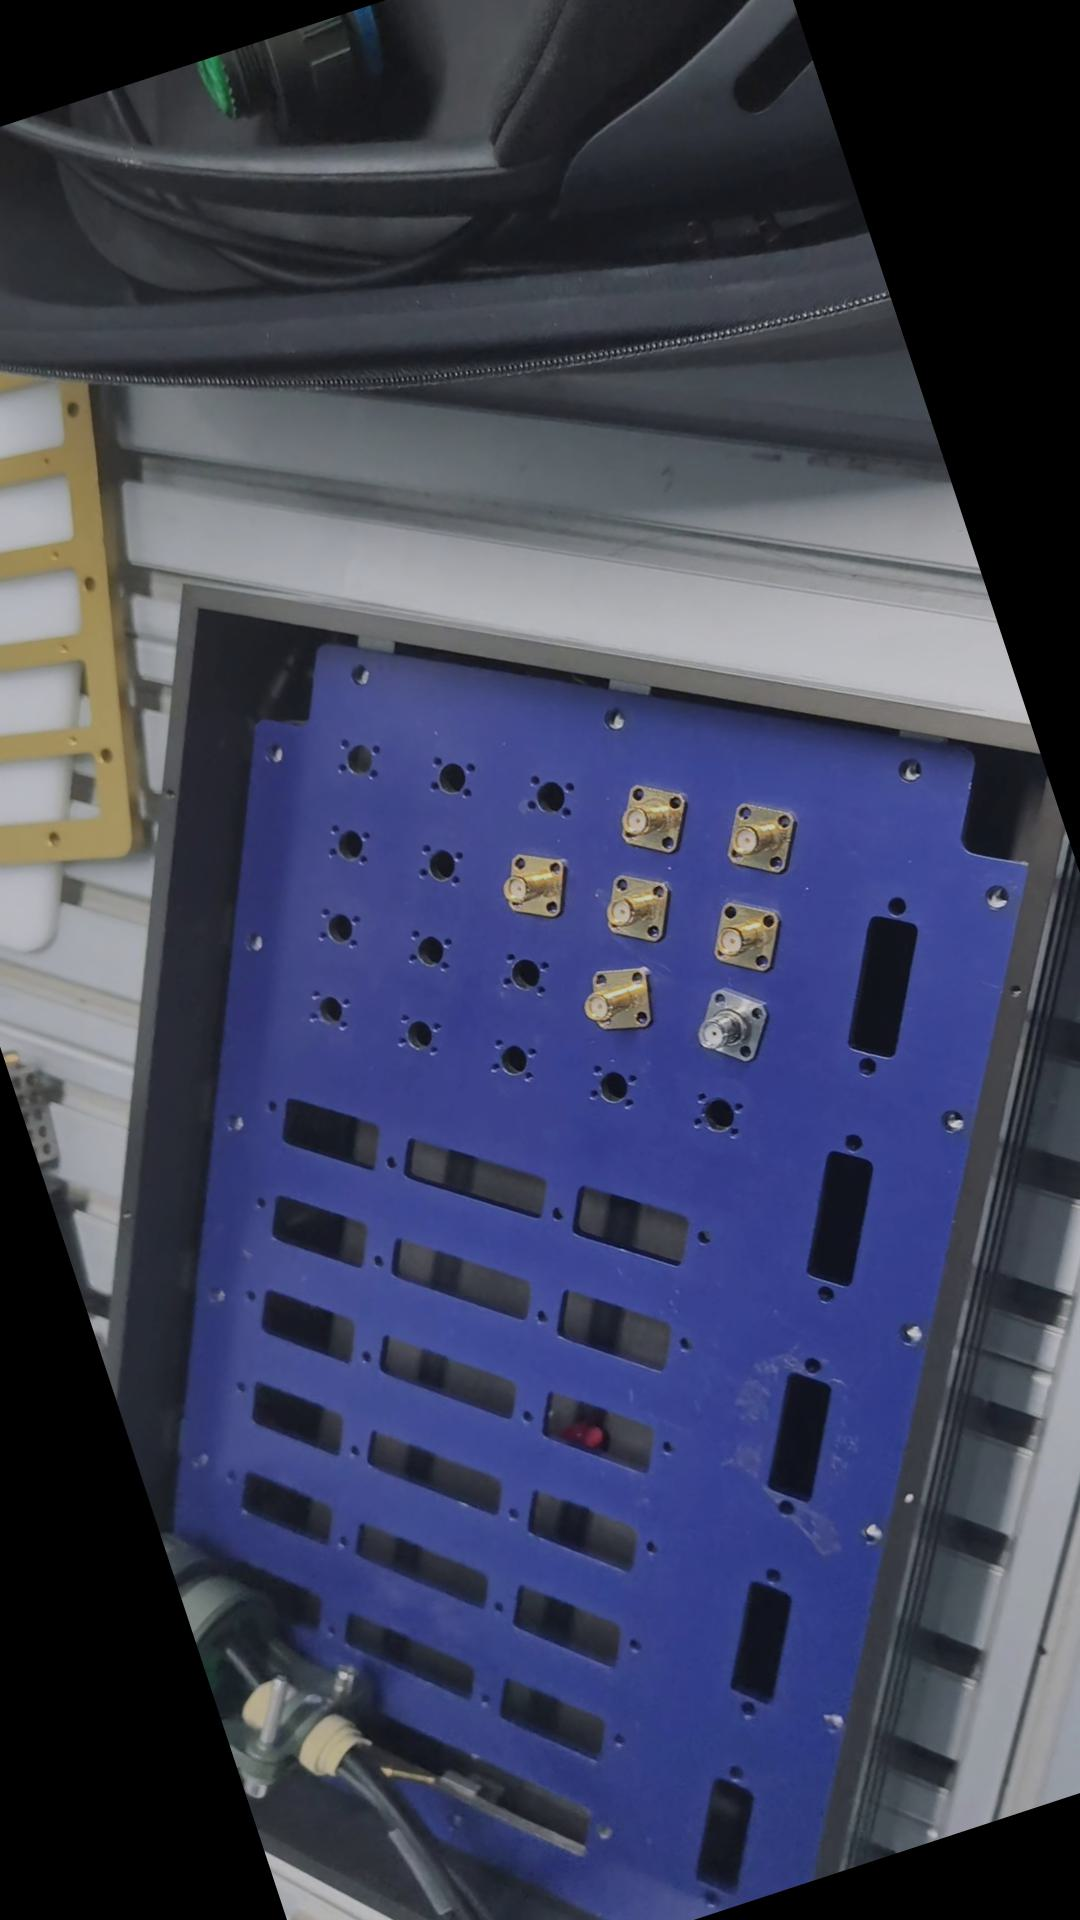SMA: (678, 973, 781, 1073), (587, 857, 688, 957), (485, 837, 585, 936), (696, 887, 795, 982), (601, 769, 696, 866), (709, 793, 808, 886), (564, 953, 661, 1048)
